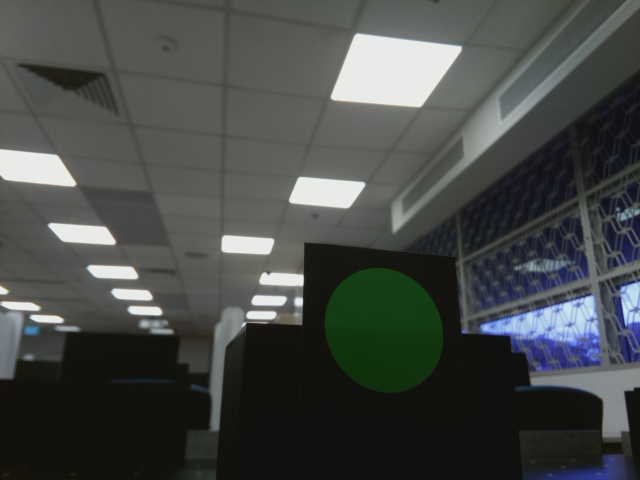go: (315, 264, 451, 400)
